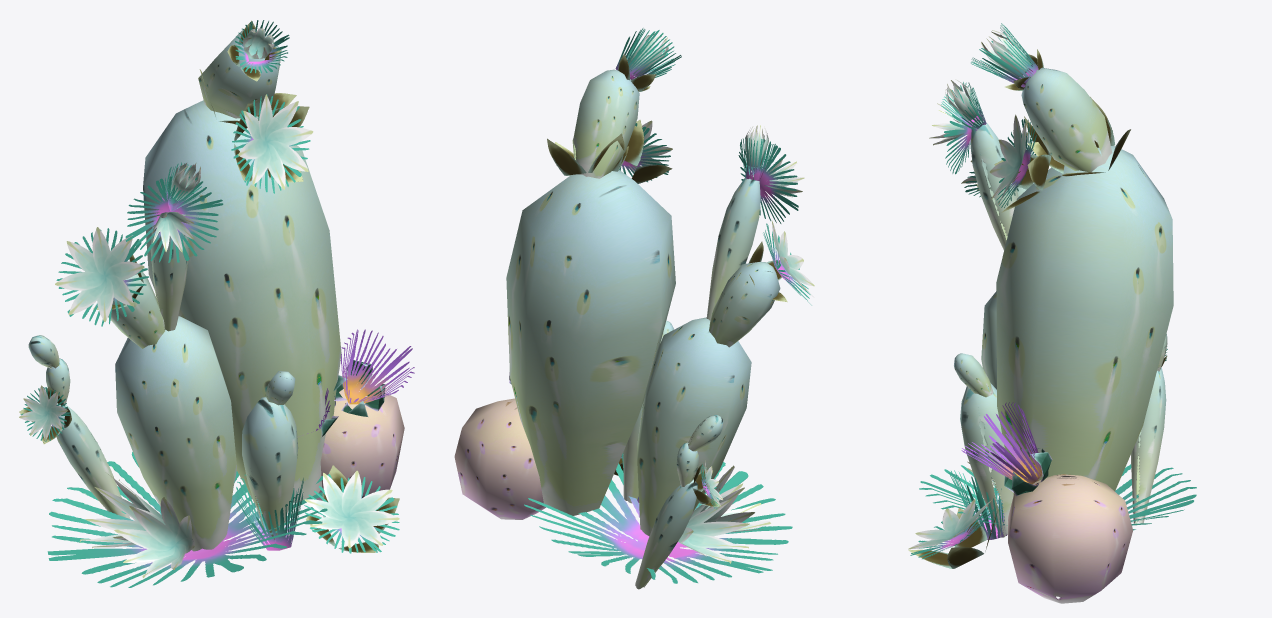
3 views of the same model, side by side, from view 1: azimuth 30°, elevation 25°; view 2: azimuth 150°, elevation 25°; view 3: azimuth 270°, elevation 25° (orthographic). The views are drawn at different scales.
Visible parts, largest first — view 1: B01; view 2: B01; view 3: B01.
Part boxes in pixels (x1,y1,x2,y2): B01: [19, 20, 414, 587]; B01: [454, 28, 814, 589]; B01: [908, 23, 1196, 603].
Size of the model in its own units: 454 by 638 by 422.
